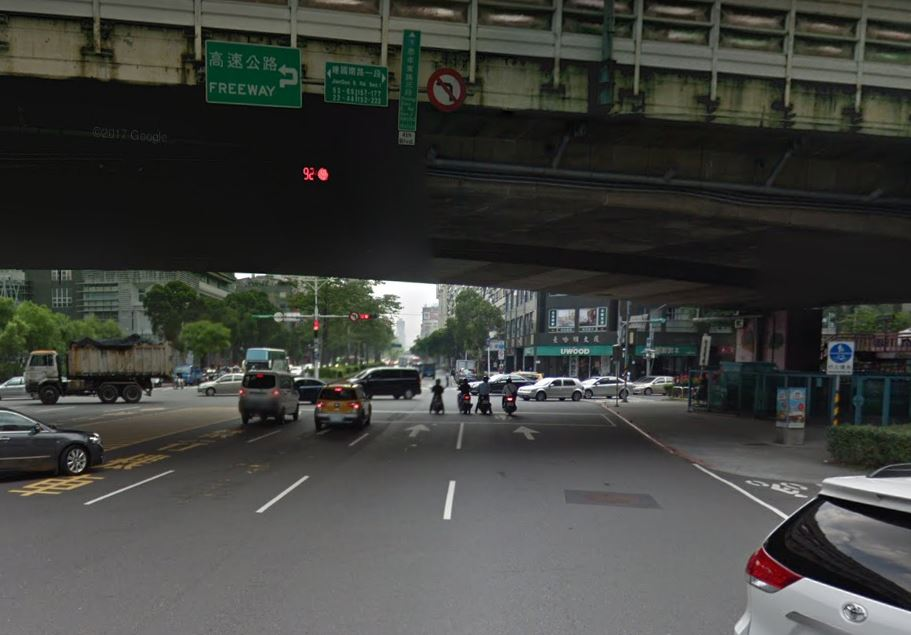No_left_turn: (426, 68, 467, 111)
